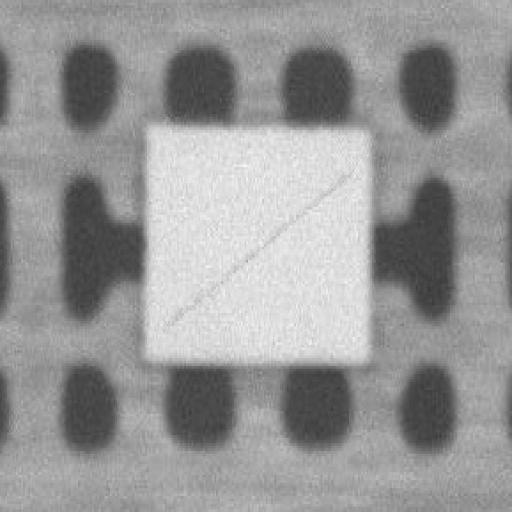DIE_CRACK: (241, 114, 512, 218)
